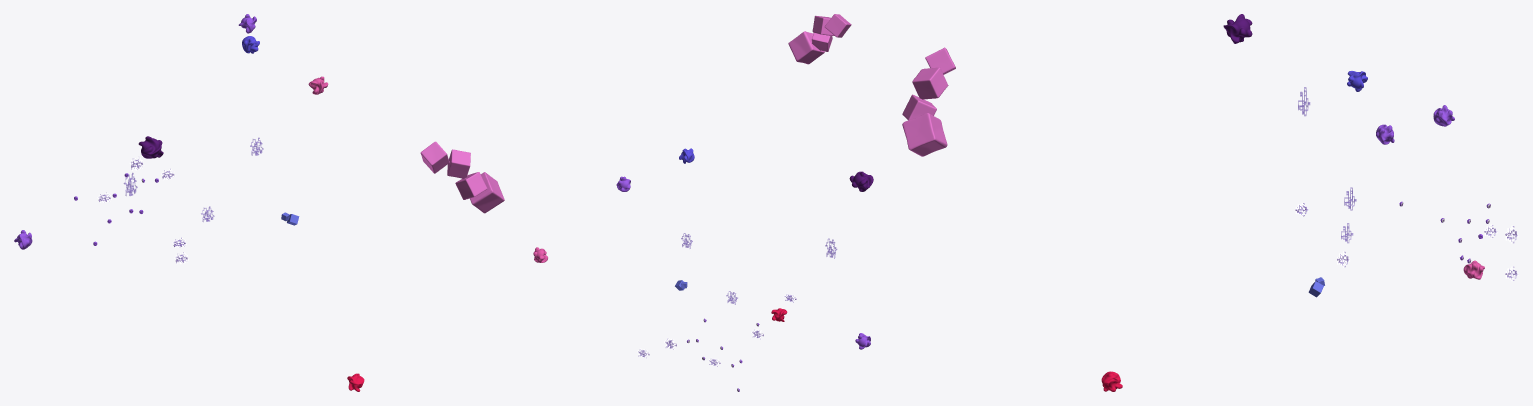
Rendered from skyitems.glb.
The picture shows the model from 3 angles, left to right: view 1: azimuth 30°, elevation 25°; view 2: azimuth 150°, elevation 25°; view 3: azimuth 270°, elevation 25°; orthographic projection. The views are drawn at different scales.
Parts seen in each view (by area): view 1: Retopo_Layer_21, Retopo_Layer_7; view 2: Retopo_Layer_21, Retopo_Layer_7; view 3: Retopo_Layer_21, Retopo_Layer_7.
Part boxes in pixels (x1,y1,x2,y2): Retopo_Layer_21: (420, 141, 504, 213); Retopo_Layer_7: (138, 136, 163, 158); Retopo_Layer_21: (788, 14, 851, 64); Retopo_Layer_7: (849, 171, 873, 191); Retopo_Layer_21: (902, 47, 955, 156); Retopo_Layer_7: (1223, 14, 1252, 43).
Bounding box in the file's own units: 121 × 99.05 × 159.
